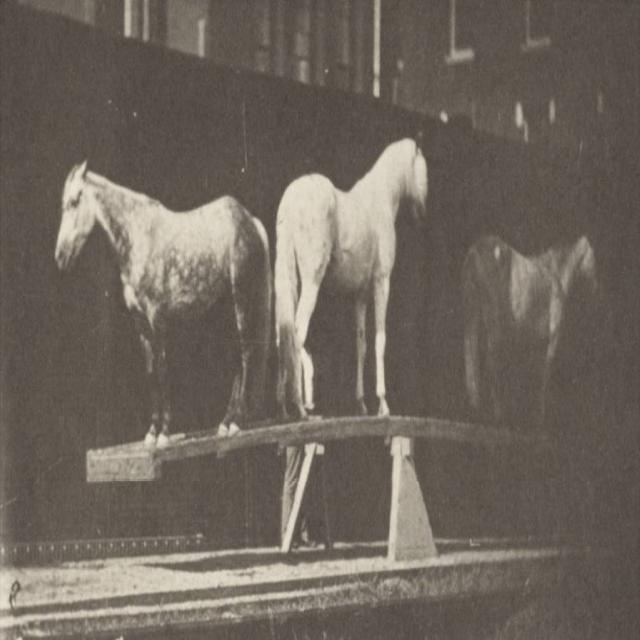Horse: (54, 155, 274, 454), (274, 129, 430, 419), (456, 229, 605, 423)
